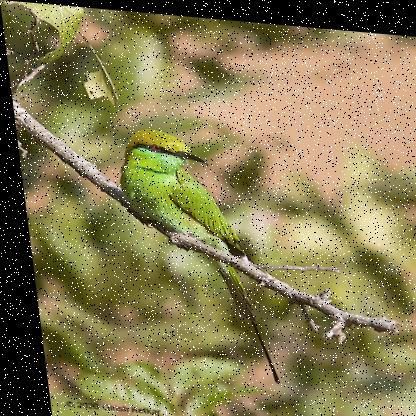Burung: (110, 124, 269, 377)
